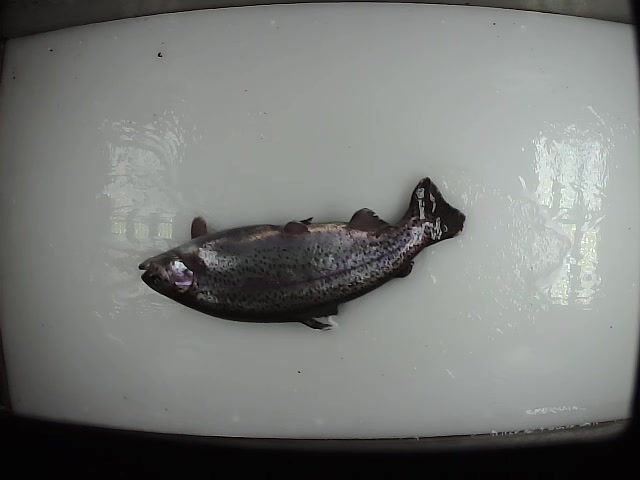fish: (138, 167, 466, 329)
